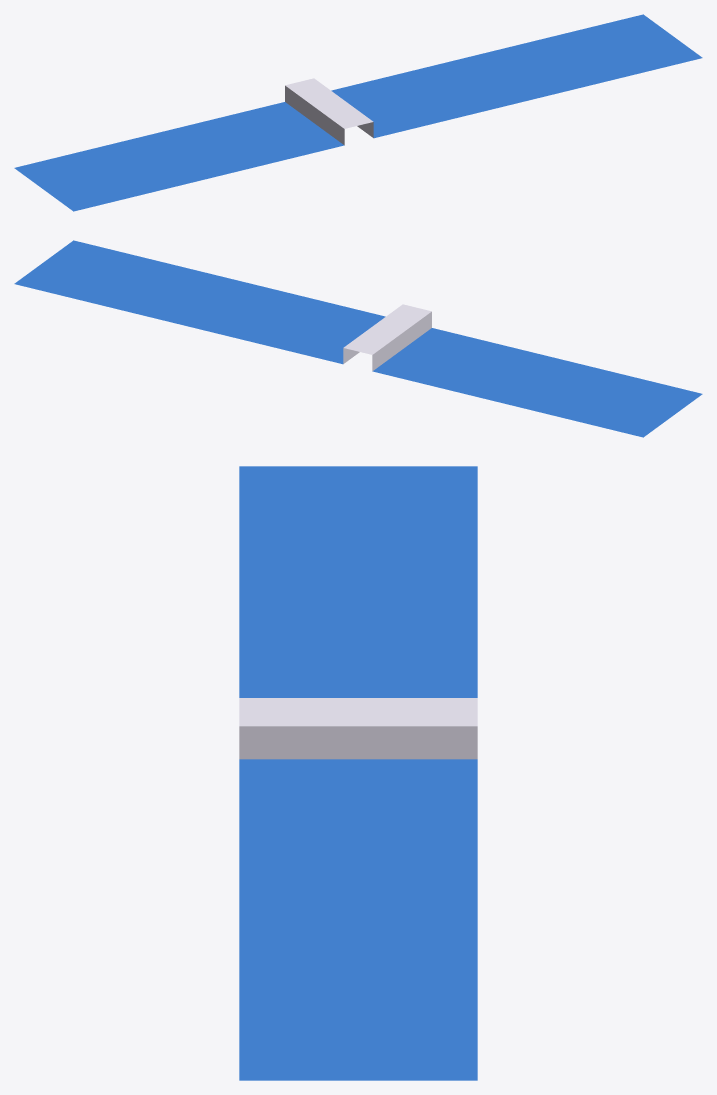
Rendered from RoadHolesRight.fbx.
3 views of the same model, one above another, from view 1: azimuth 30°, elevation 25°; view 2: azimuth 150°, elevation 25°; view 3: azimuth 270°, elevation 25° (orthographic). The views are drawn at different scales.
Parts seen in each view (by area): view 1: RoadHolesRight; view 2: RoadHolesRight; view 3: RoadHolesRight.
Part boxes in pixels (x1,y1,x2,y2): RoadHolesRight: [14, 14, 702, 211]; RoadHolesRight: [14, 240, 702, 437]; RoadHolesRight: [239, 466, 477, 1080].
Size of the model in its own units: 3902 by 97.53 by 640.
